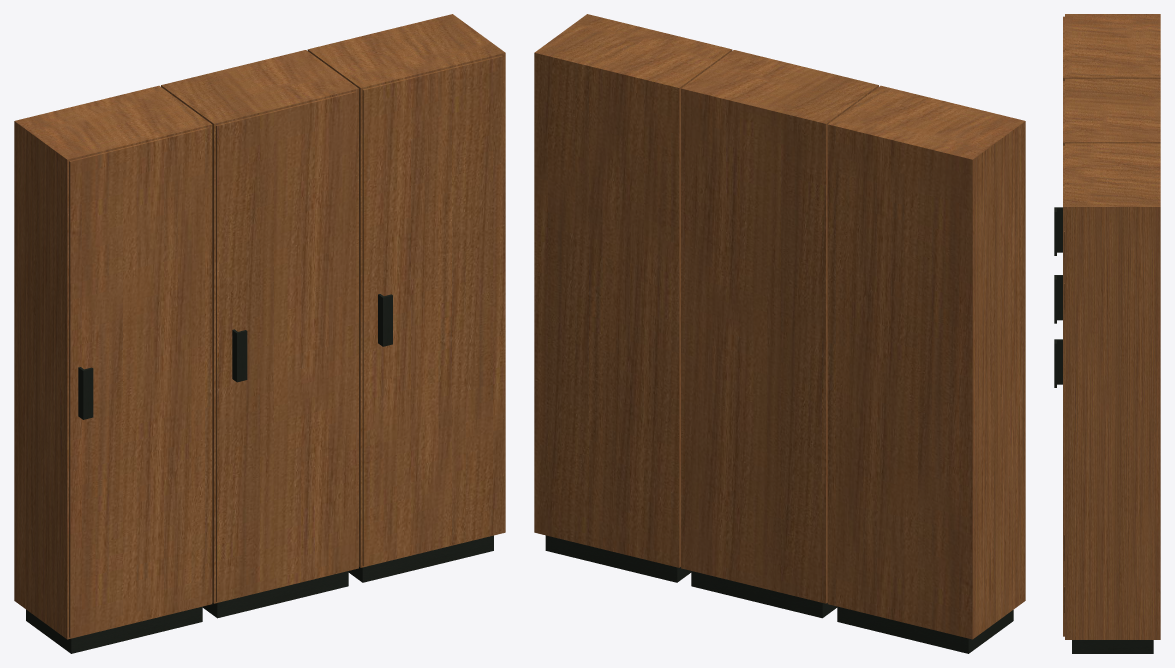
File: OfficeCabinet_01.DAE
3 views of the same model, side by side, from view 1: azimuth 30°, elevation 25°; view 2: azimuth 150°, elevation 25°; view 3: azimuth 270°, elevation 25° (orthographic). The views are drawn at different scales.
Visible parts, largest first — view 1: OfficeCabinetOne300; view 2: OfficeCabinetOne300; view 3: OfficeCabinetOne300.
Boxes of the visible parts, x1,y1,x2,y2 form: OfficeCabinetOne300: (14, 14, 505, 653); OfficeCabinetOne300: (534, 14, 1025, 653); OfficeCabinetOne300: (1054, 14, 1160, 653).
Size of what is drawn, in the model's own units: 79.19 by 18.42 by 86.15.
